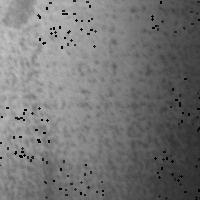pitted_surface: (3, 4, 197, 197), (0, 107, 48, 164), (37, 0, 94, 46), (152, 151, 200, 200), (44, 160, 102, 200), (170, 70, 200, 129), (150, 0, 200, 31)
